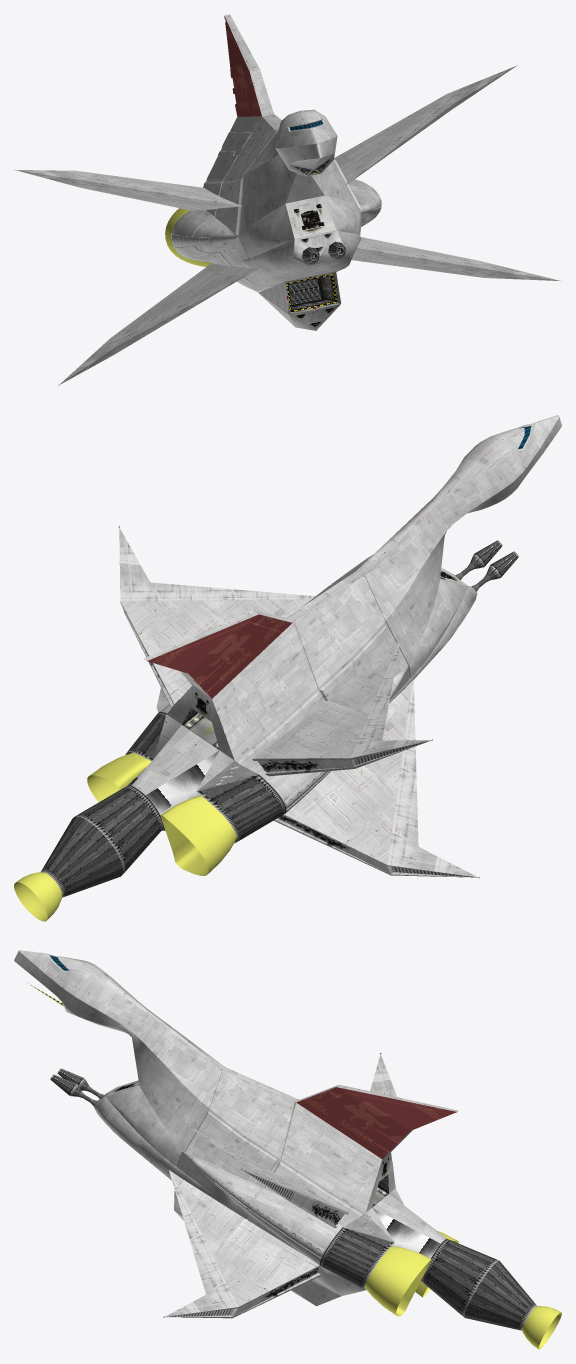
Rendered from DolGreatfoxDX.obj.
The picture shows the model from 3 angles, top to bottom: view 1: azimuth 30°, elevation 25°; view 2: azimuth 150°, elevation 25°; view 3: azimuth 270°, elevation 25°; orthographic projection. The views are drawn at different scales.
Visible parts, largest first — view 1: polygon0, polygon38, polygon39, polygon12, polygon14, polygon24, polygon10, polygon26, polygon19, polygon17, polygon15, polygon16 (+5 smaller); view 2: polygon39, polygon0, polygon24, polygon38, polygon14, polygon26, polygon13, polygon43, polygon7, polygon8, polygon1, polygon40 (+9 smaller); view 3: polygon0, polygon24, polygon39, polygon14, polygon12, polygon21, polygon38, polygon8, polygon7, polygon44, polygon13, polygon40 (+7 smaller).
Boxes of the visible parts, left/top/right/bottom form: polygon0: left=239, top=116, right=360, bottom=258; polygon38: left=15, top=65, right=559, bottom=385; polygon39: left=78, top=94, right=483, bottom=337; polygon12: left=171, top=179, right=381, bottom=330; polygon14: left=225, top=119, right=362, bottom=285; polygon24: left=203, top=114, right=360, bottom=224; polygon10: left=285, top=195, right=336, bottom=255; polygon26: left=224, top=16, right=261, bottom=116; polygon19: left=224, top=14, right=280, bottom=131; polygon17: left=289, top=276, right=333, bottom=309; polygon15: left=257, top=258, right=350, bottom=292; polygon16: left=284, top=271, right=340, bottom=314; polygon39: left=120, top=599, right=411, bottom=864; polygon0: left=332, top=415, right=561, bottom=677; polygon24: left=172, top=609, right=360, bottom=791; polygon38: left=119, top=527, right=478, bottom=877; polygon14: left=303, top=572, right=475, bottom=703; polygon26: left=147, top=614, right=291, bottom=698; polygon13: left=126, top=712, right=286, bottom=842; polygon43: left=160, top=795, right=237, bottom=875; polygon7: left=41, top=816, right=123, bottom=897; polygon8: left=75, top=785, right=163, bottom=873; polygon1: left=358, top=423, right=535, bottom=574; polygon40: left=120, top=601, right=390, bottom=875; polygon0: left=14, top=950, right=220, bottom=1165; polygon24: left=224, top=1093, right=394, bottom=1242; polygon39: left=171, top=1131, right=346, bottom=1306; polygon14: left=97, top=1068, right=273, bottom=1196; polygon12: left=174, top=1130, right=412, bottom=1306; polygon21: left=296, top=1087, right=456, bottom=1158; polygon38: left=165, top=1054, right=396, bottom=1316; polygon8: left=421, top=1239, right=498, bottom=1317; polygon7: left=464, top=1260, right=536, bottom=1330; polygon44: left=364, top=1246, right=431, bottom=1316; polygon13: left=319, top=1227, right=394, bottom=1289; polygon40: left=233, top=1192, right=348, bottom=1317.
Bounding box in the file's own units: 16.5 × 13.67 × 22.47.
Materials: 30 (30 with a texture image).
